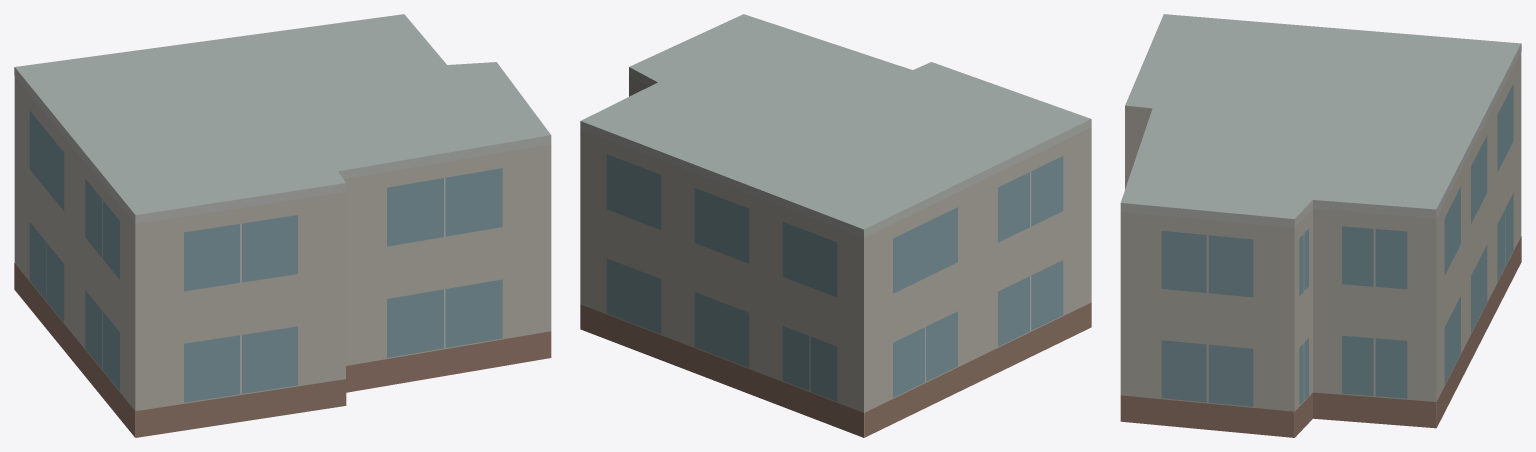
Rendered from survey-upis-32808570.glb.
3 views of the same model, side by side, from view 1: azimuth 30°, elevation 25°; view 2: azimuth 150°, elevation 25°; view 3: azimuth 270°, elevation 25° (orthographic). The views are drawn at different scales.
Visible parts, largest first — view 1: survey-upis-32808570.tmp; view 2: survey-upis-32808570.tmp; view 3: survey-upis-32808570.tmp.
Part boxes in pixels (left/top/right/bottom): survey-upis-32808570.tmp: left=14, top=14, right=551, bottom=437; survey-upis-32808570.tmp: left=580, top=14, right=1091, bottom=437; survey-upis-32808570.tmp: left=1120, top=14, right=1521, bottom=437.
Size of the model in its own units: 12.27 by 6.1 by 10.14.
